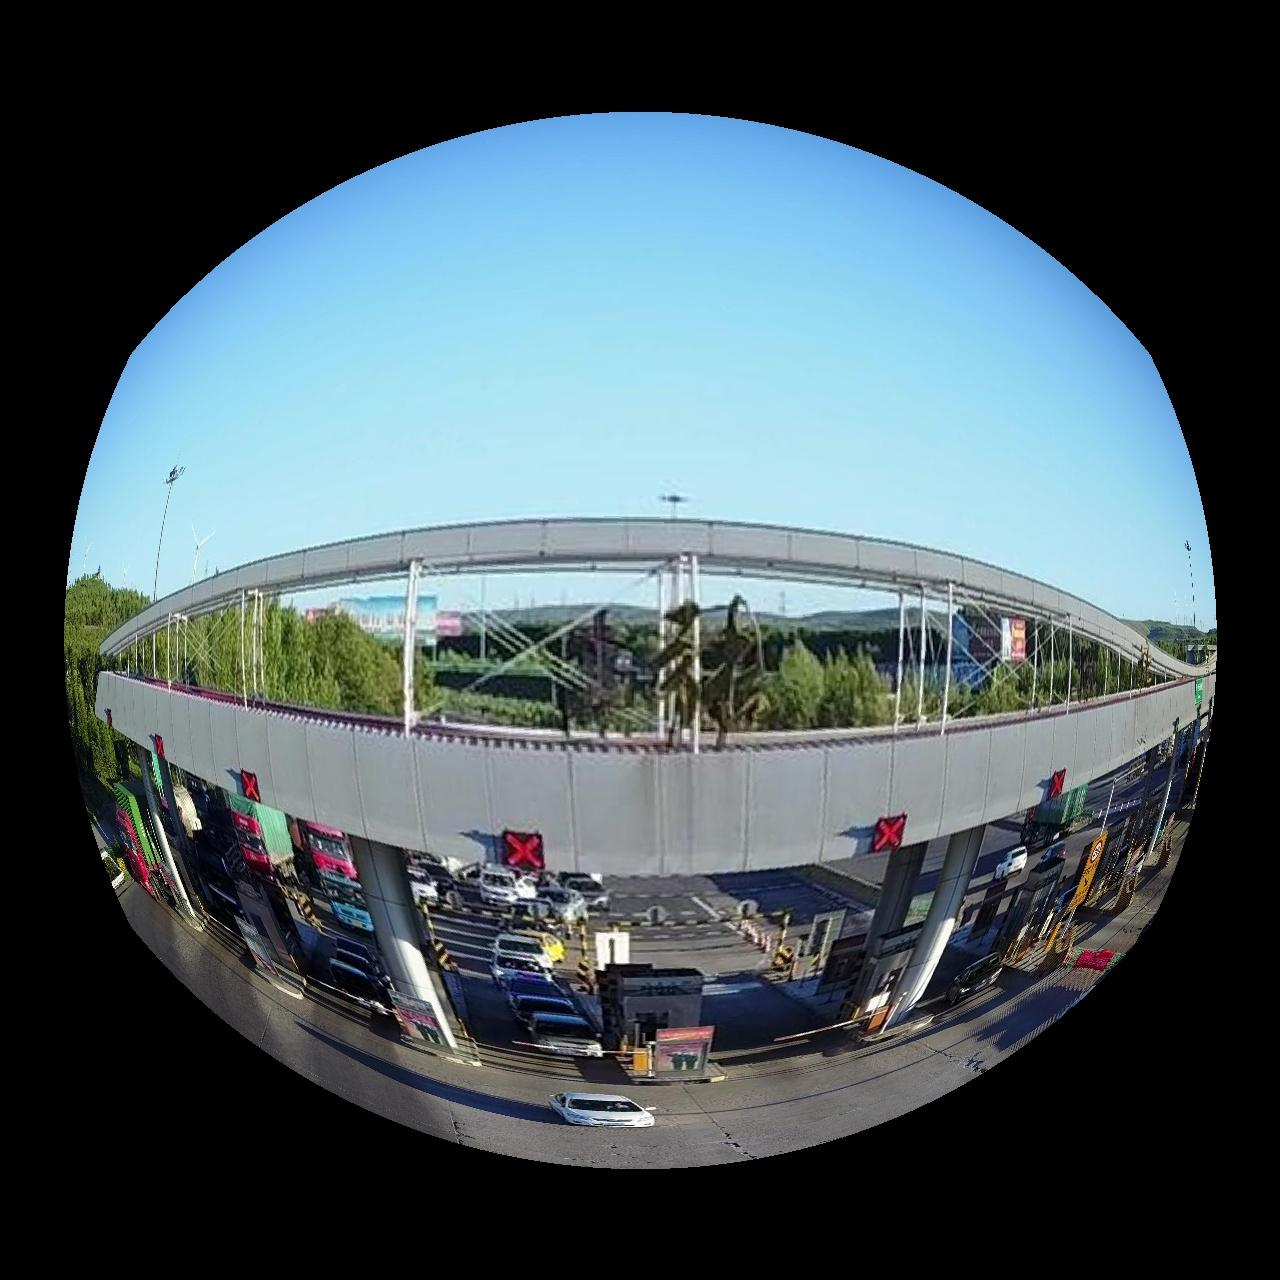building: (66, 518, 1211, 1087)
cars: (549, 1094, 655, 1130)
trees: (125, 597, 401, 715), (64, 576, 144, 783), (757, 639, 892, 729)
